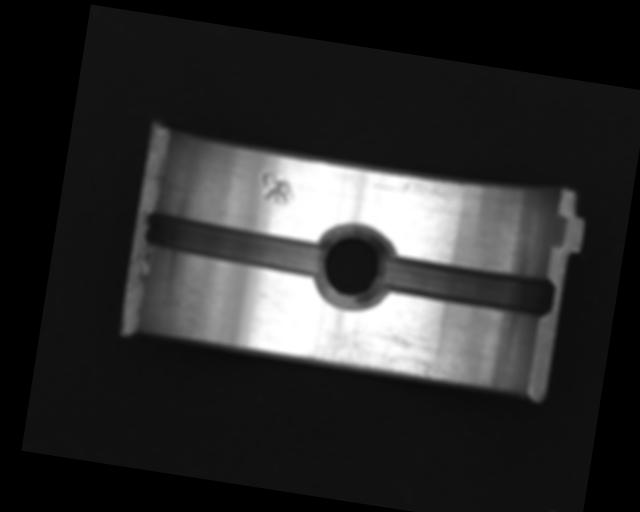bruise: (257, 171, 298, 207)
gap: (139, 206, 329, 279), (378, 252, 556, 318)
hole: (307, 217, 398, 315)
scratch: (297, 310, 469, 385)
